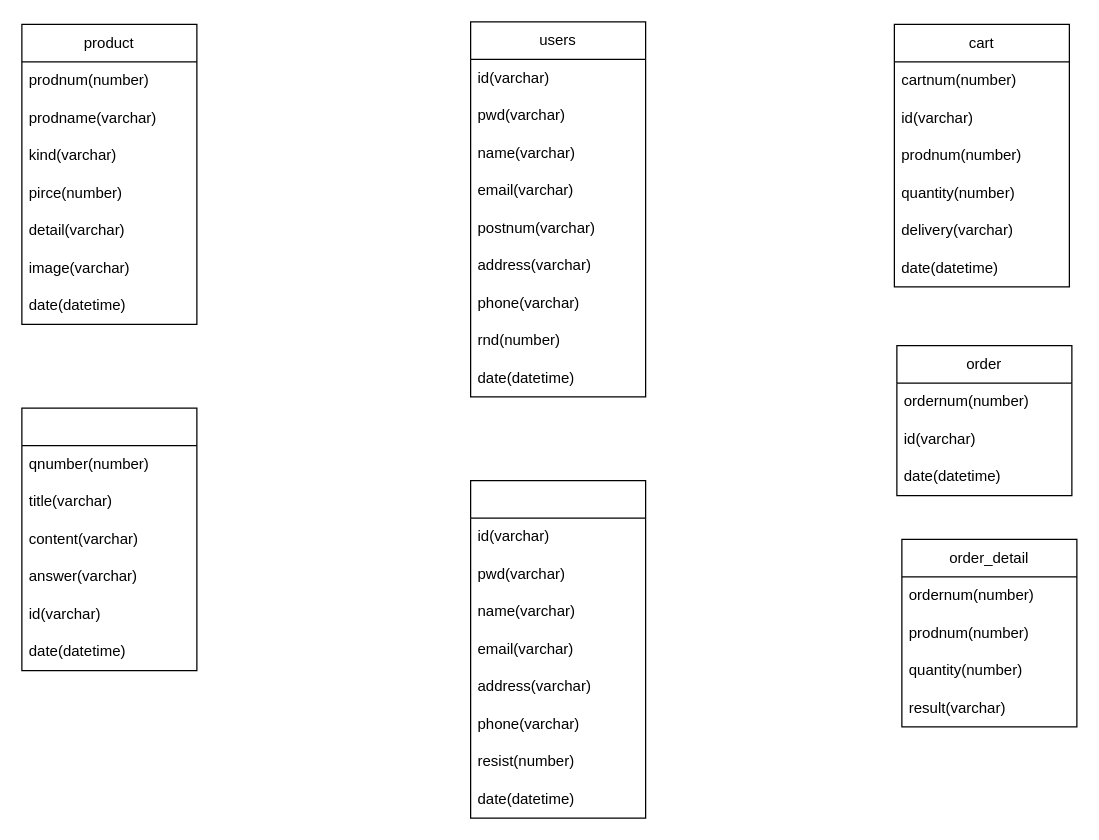
The diagram is 1099 pixels wide and 840 high, and some of its shapes have lost their labels. Here are the shapes that lost their labels. From the top down, the box of each, then its label:
(21, 407, 197, 671): qna
(469, 479, 646, 818): seller
